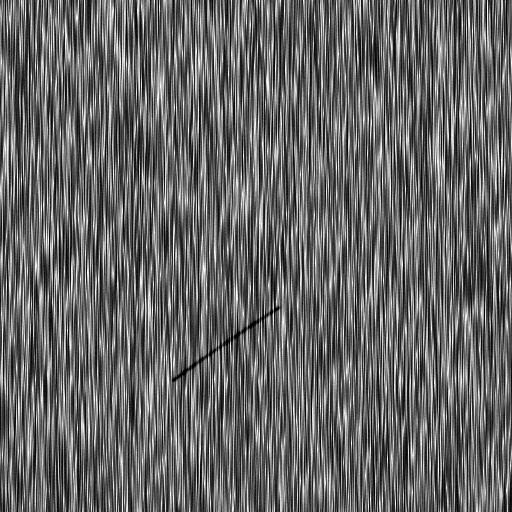DefectTypeC: (172, 306, 281, 378)
